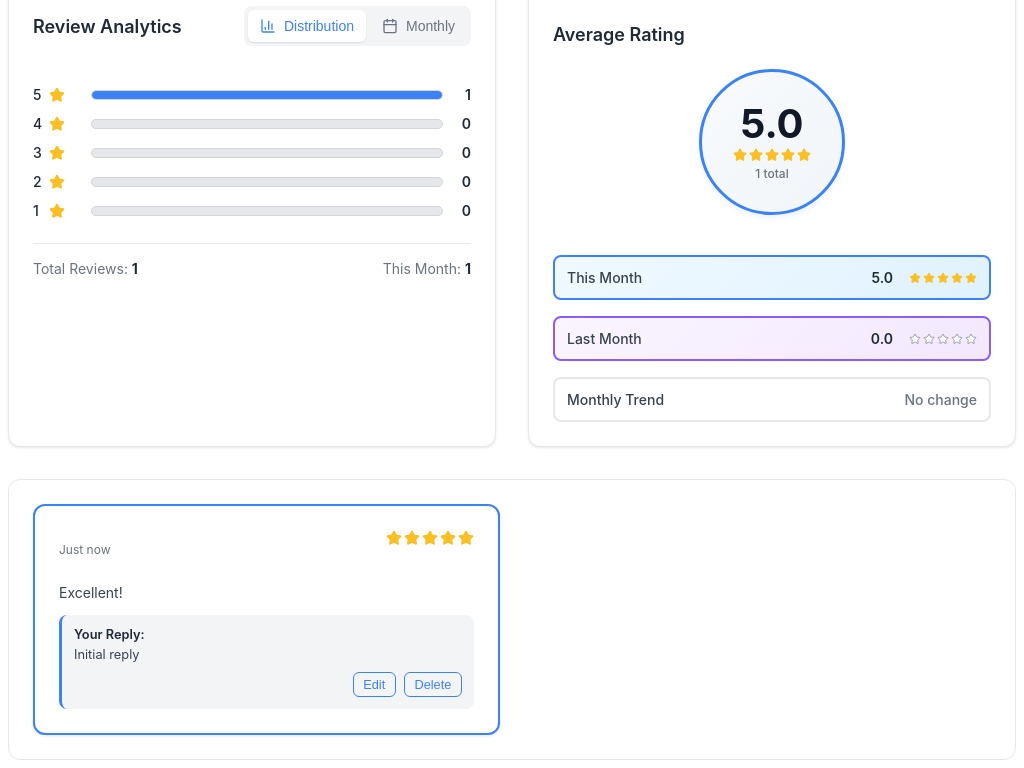
VendorReviews Component › allows editing a reply
(page scrolled)
Click the button "Edit" at (374, 684), box [353, 672, 396, 697]
(page scrolled)
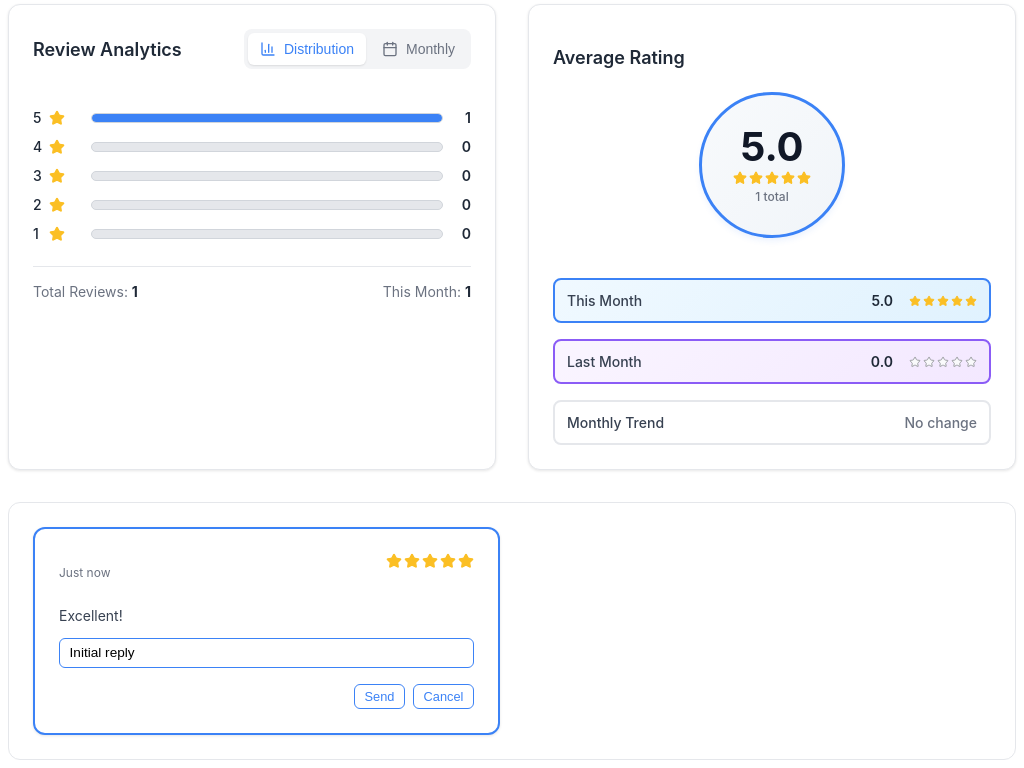
Replace the text in the field with placeholder "Write a reply..." with "Edited reply" at (266, 653), box [59, 638, 474, 668]
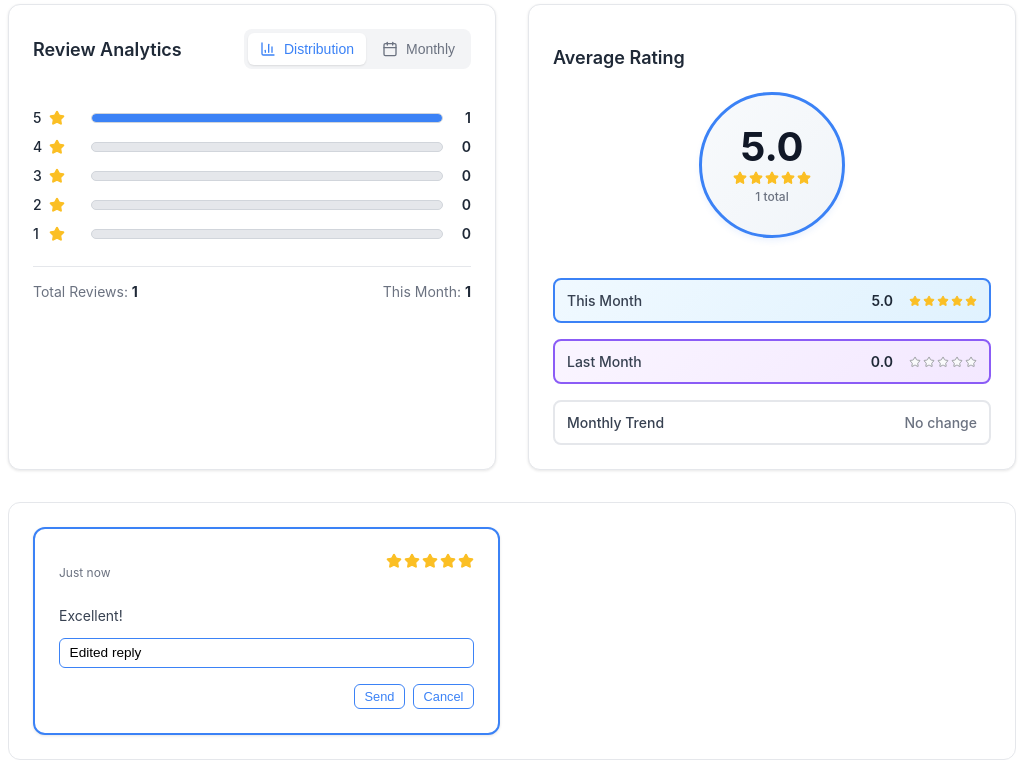
Click the button "Send" at (379, 696), box [354, 684, 405, 709]
(page scrolled)
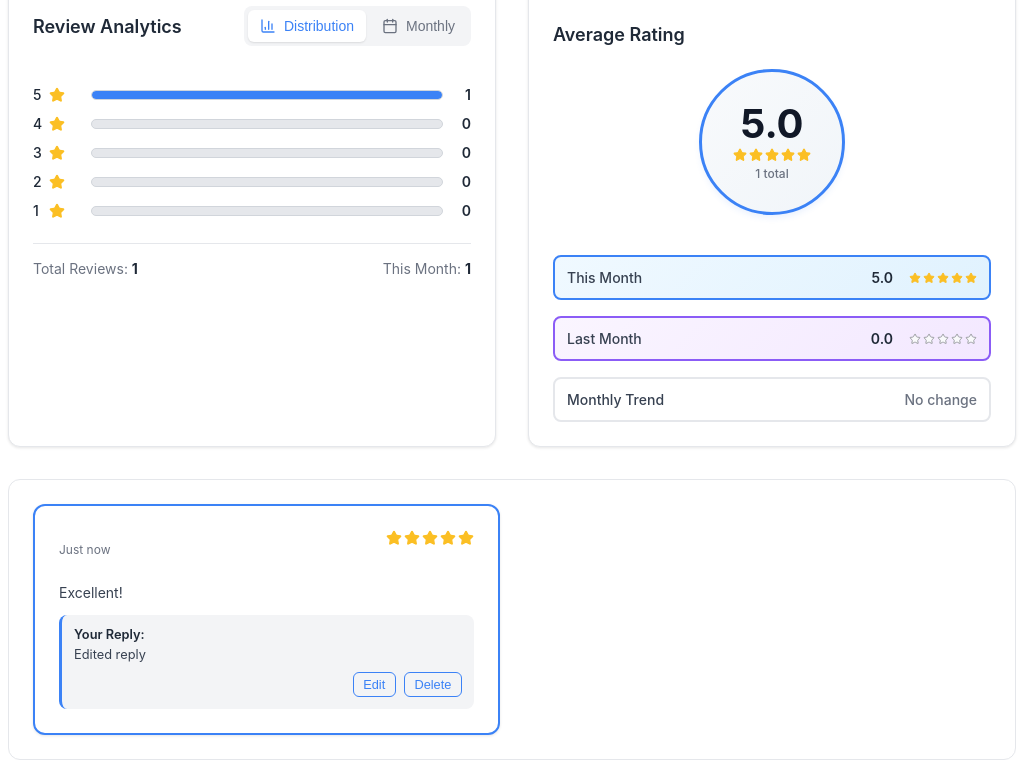
Check: the text "Edited reply" is shown, box [74, 647, 146, 662]
